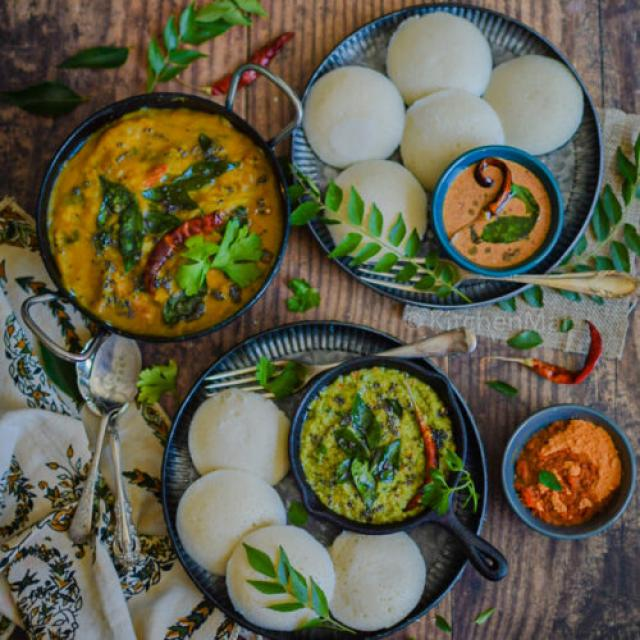IDLI: (175, 470, 285, 575), (401, 90, 503, 191), (303, 65, 404, 166), (484, 55, 582, 155), (388, 12, 492, 105), (329, 531, 425, 630), (189, 389, 288, 483)
